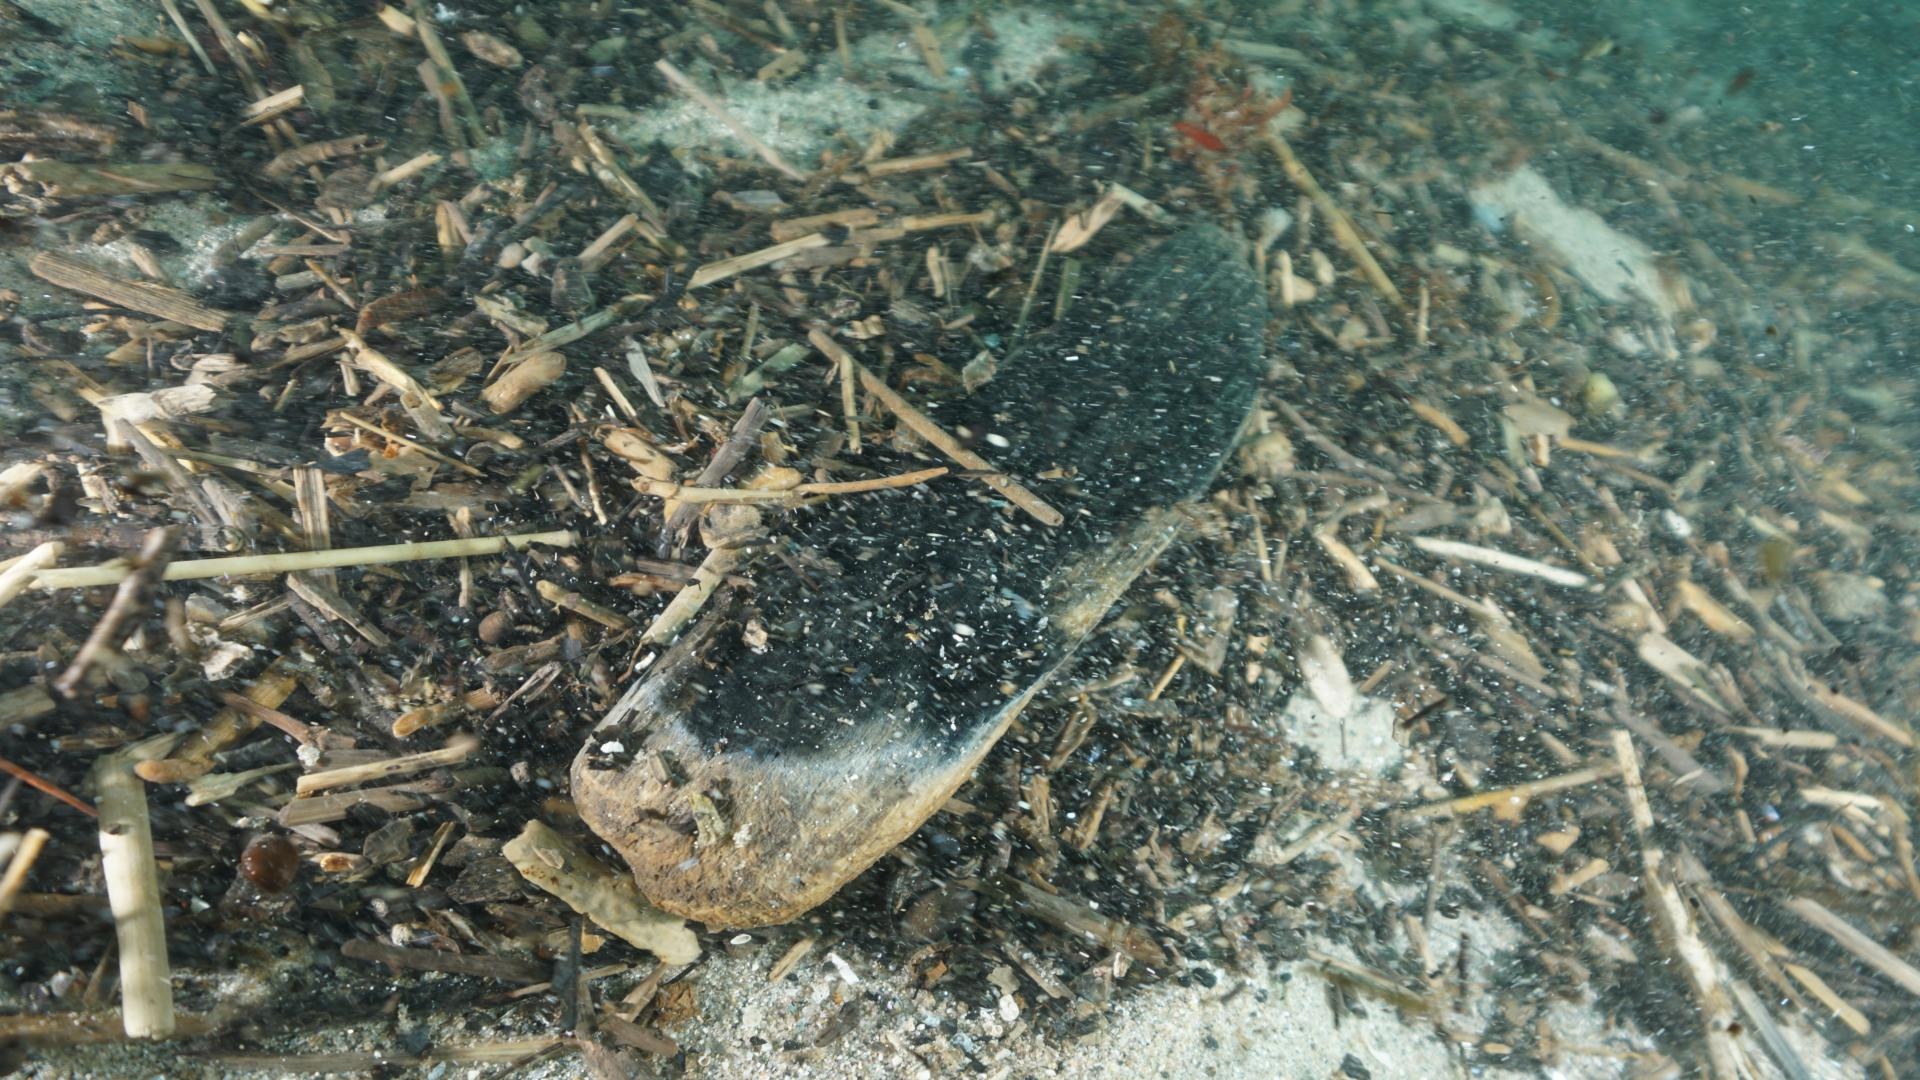wood: (563, 218, 1274, 934)
